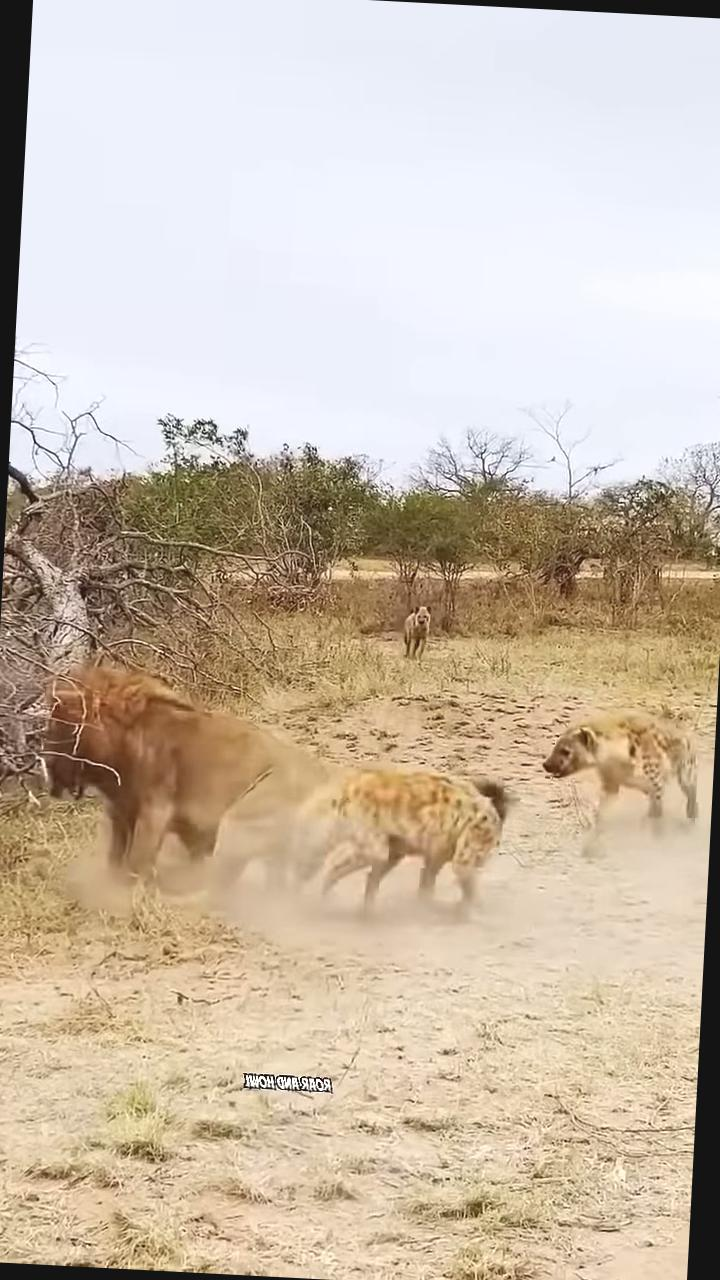hyenas: (278, 744, 524, 920), (519, 676, 708, 876), (382, 575, 445, 671)
